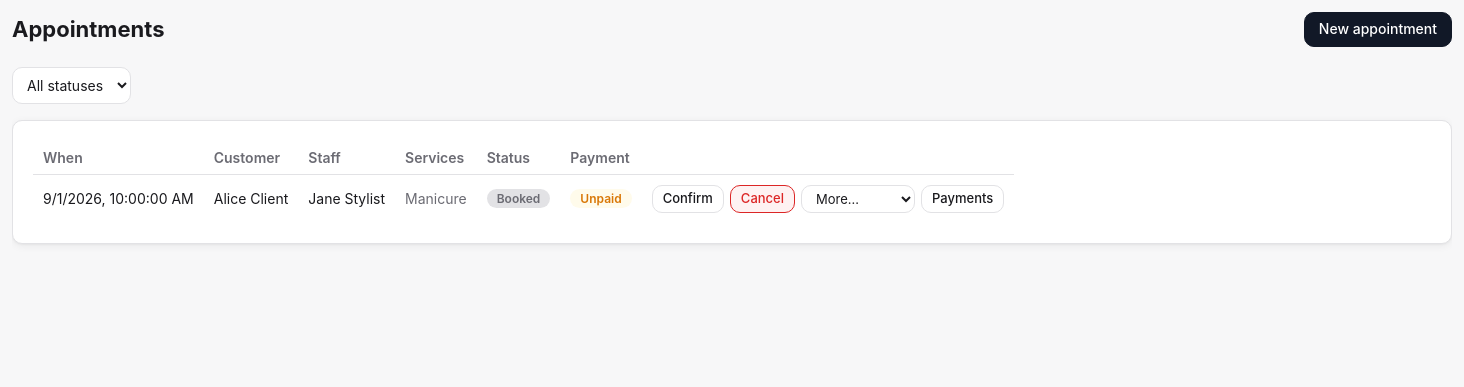
AppointmentsPage - payments › expands the payments panel, lists payment history, and pre-fills the amount from priceSnapshot
The image size is (1464, 387).
Expected: the text "Alice Client" is shown, [204,174,298,223]
Click the button "Payments": (963, 199) [921,185,1004,213]
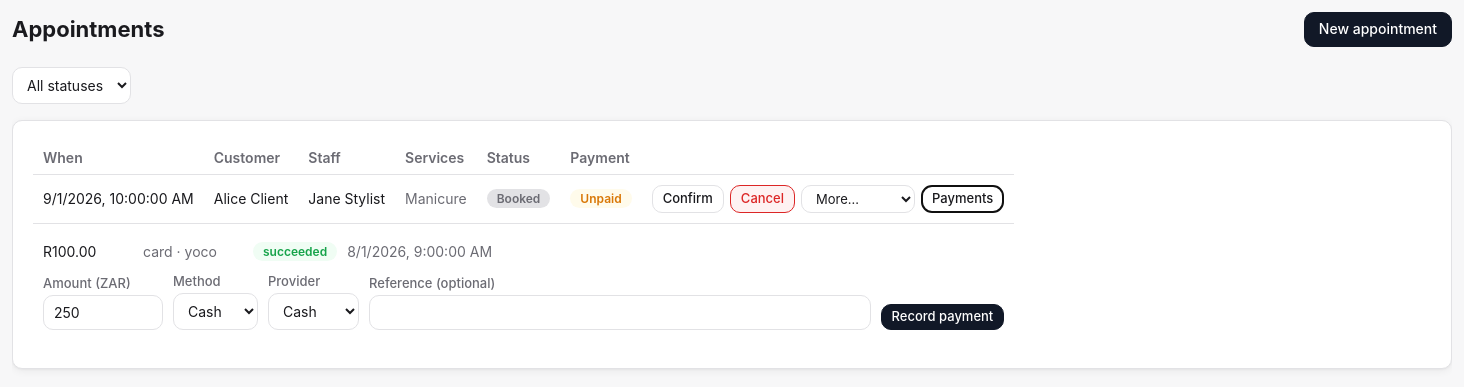
Expected: the text "R100.00" is shown, [43,243,96,260]
Expected: the text "card · yoco" is shown, [143,243,217,260]
Expected: the number field labelled "Amount (ZAR)" holds "250", [43,295,163,330]
